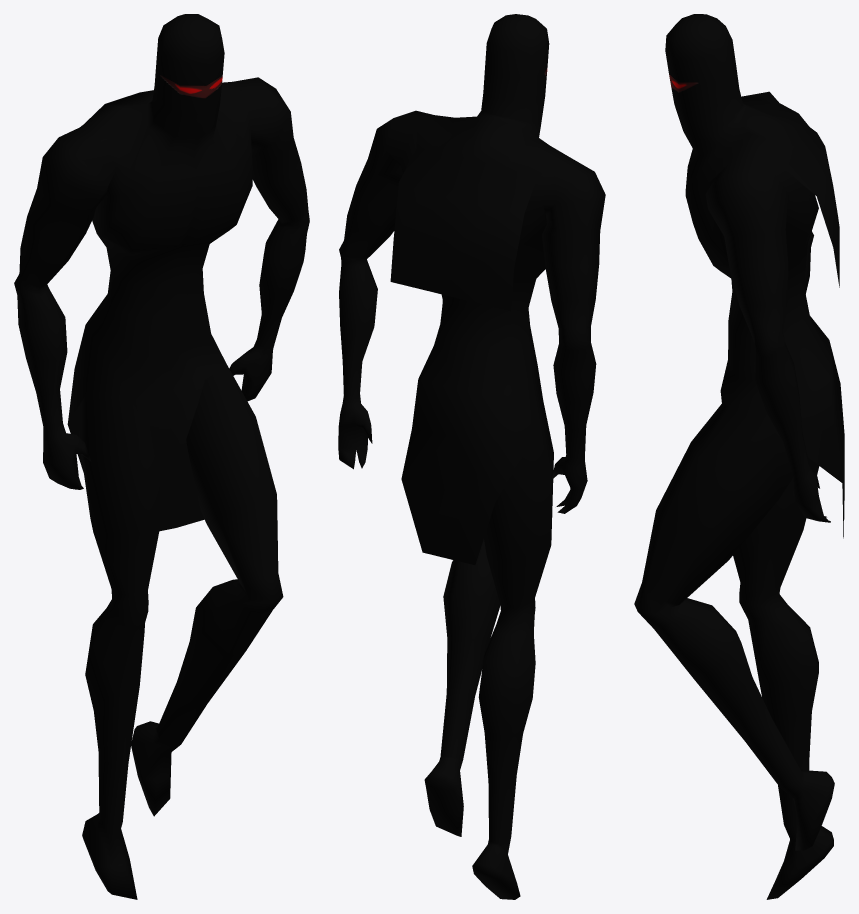
Rendered from Scorcher.FBX.
3 renders of one model, left to right at view 1: azimuth 30°, elevation 25°; view 2: azimuth 150°, elevation 25°; view 3: azimuth 270°, elevation 25°, orthographic. The views are drawn at different scales.
Parts seen in each view (by area): view 1: Scorcher-Model; view 2: Scorcher-Model; view 3: Scorcher-Model.
Boxes of the visible parts, x1,y1,x2,y2 form: Scorcher-Model: (14,14,309,899); Scorcher-Model: (338,14,605,899); Scorcher-Model: (634,14,844,899).
Bounding box in the file's own units: 83.88 × 261 × 55.76.
